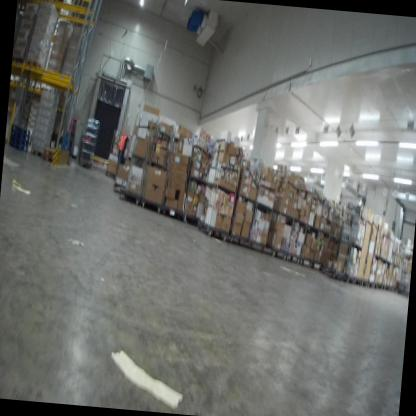pallet: (8, 134, 30, 148), (24, 58, 45, 72), (28, 145, 45, 161), (10, 130, 32, 141), (10, 124, 30, 136), (43, 145, 58, 159), (7, 142, 28, 151), (44, 153, 57, 165), (12, 57, 27, 67), (41, 86, 56, 95), (21, 80, 32, 91), (31, 82, 42, 91), (13, 77, 21, 88)
